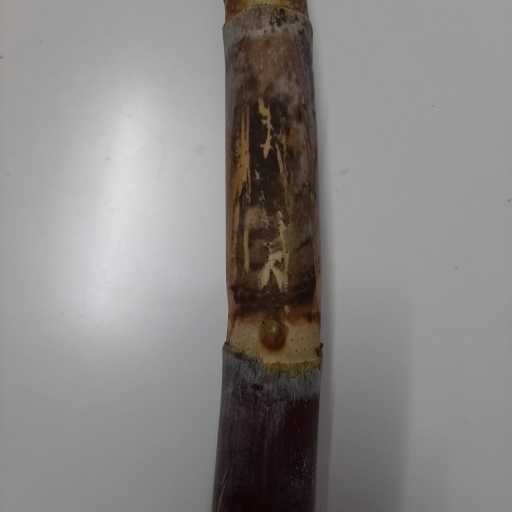Bud: (257, 315, 287, 352)
